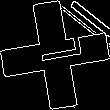L_W: (27, 35, 83, 75)
